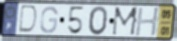5: (66, 6, 86, 36)
D: (17, 5, 39, 36)
G: (39, 5, 59, 35)
H: (134, 7, 161, 38)
M: (111, 6, 141, 37)
O: (88, 5, 109, 37)
